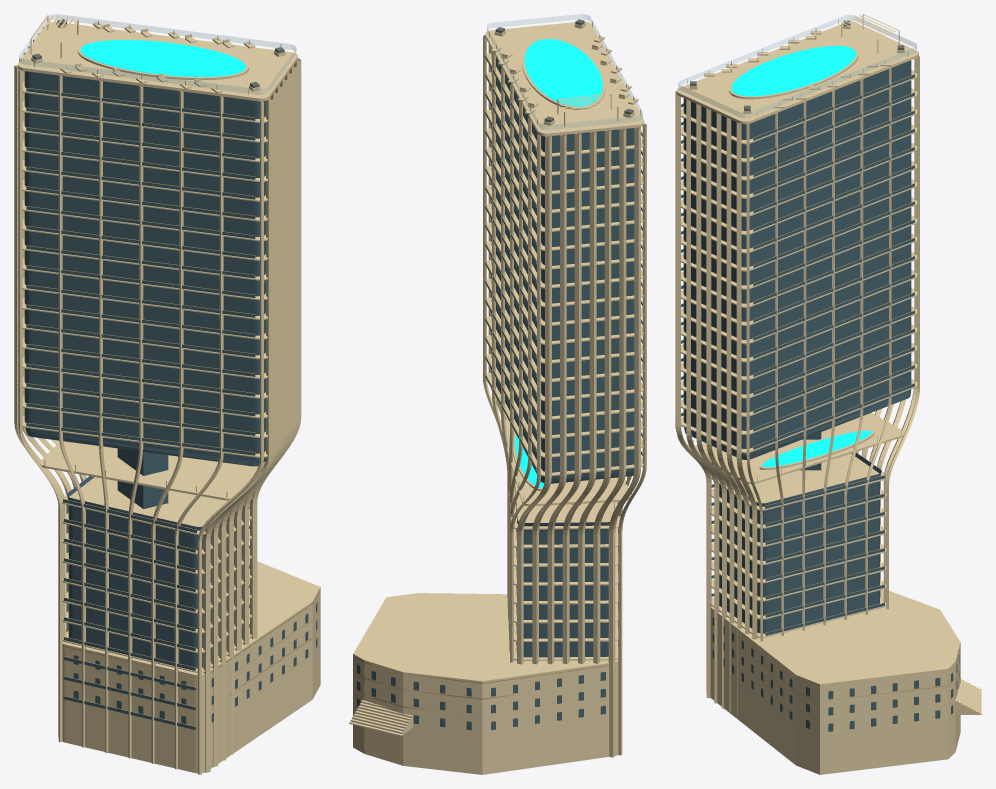
Rendered from mercury-tower.glb.
3 views of the same model, side by side, from view 1: azimuth 30°, elevation 25°; view 2: azimuth 150°, elevation 25°; view 3: azimuth 270°, elevation 25° (orthographic). The views are drawn at different scales.
Visible parts, largest first — view 1: Mercury Tower and Mercury House; view 2: Mercury Tower and Mercury House; view 3: Mercury Tower and Mercury House.
Part boxes in pixels (x1,y1,x2,y2): Mercury Tower and Mercury House: (14, 14, 320, 774); Mercury Tower and Mercury House: (349, 14, 646, 774); Mercury Tower and Mercury House: (675, 14, 981, 774).
Size of the model in its own units: 57.93 by 134 by 58.1.
